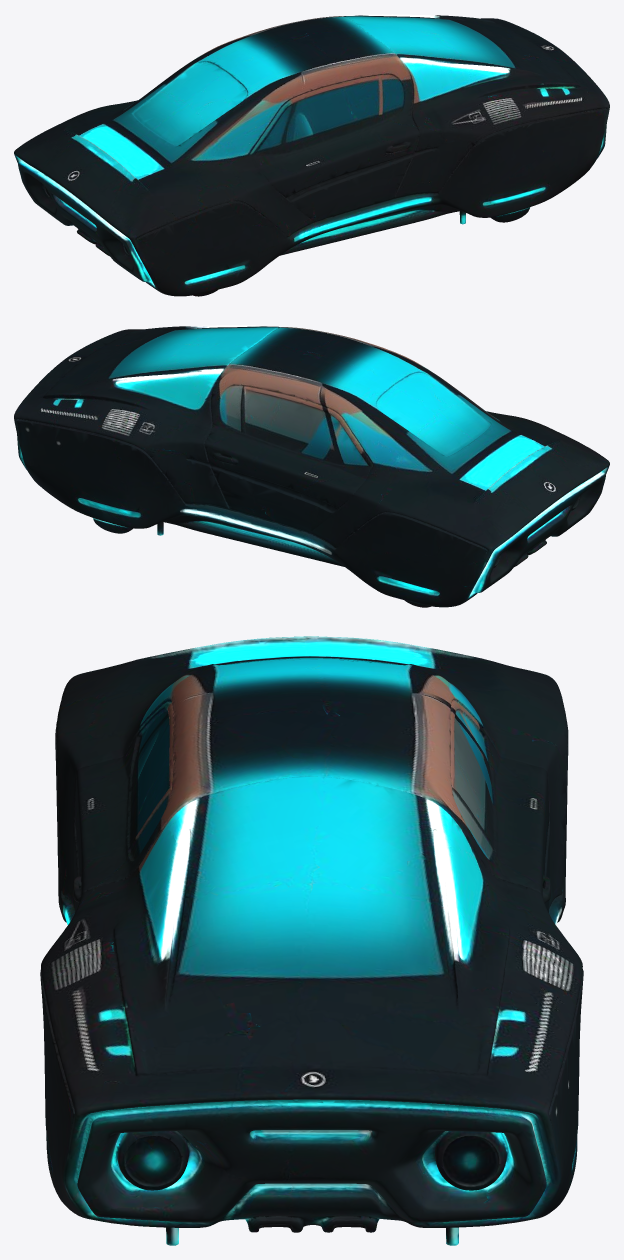
Rendered from b2_flying_vehicle_rt.glb.
The picture shows the model from 3 angles, top to bottom: view 1: azimuth 30°, elevation 25°; view 2: azimuth 150°, elevation 25°; view 3: azimuth 270°, elevation 25°; orthographic projection. The views are drawn at different scales.
Size of the model in its own units: 1.9 by 0.6907 by 0.9013.
1 material, 1 textured.
